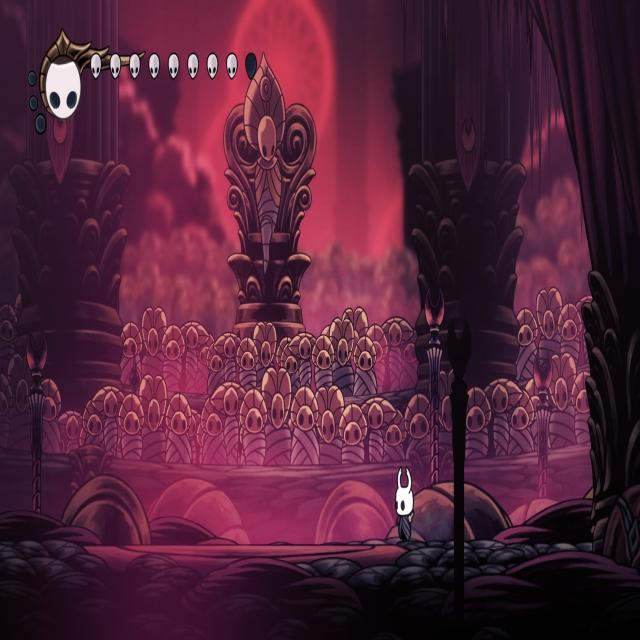Player: (392, 460, 416, 546)
